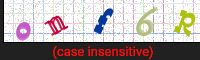6: (133, 4, 163, 38)
R: (170, 3, 197, 38)
f: (90, 4, 123, 40)
n: (45, 15, 70, 36)
o: (12, 19, 34, 41)
